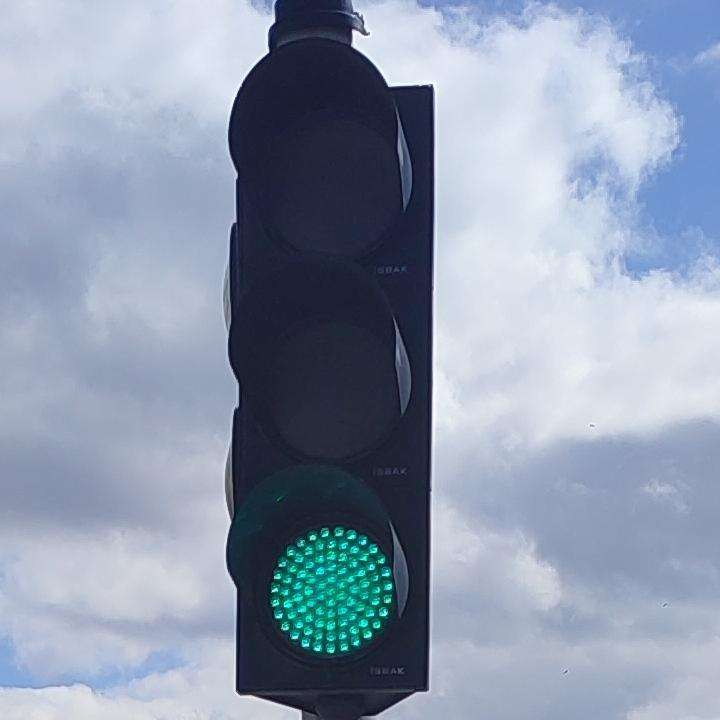green: (222, 3, 436, 714)
